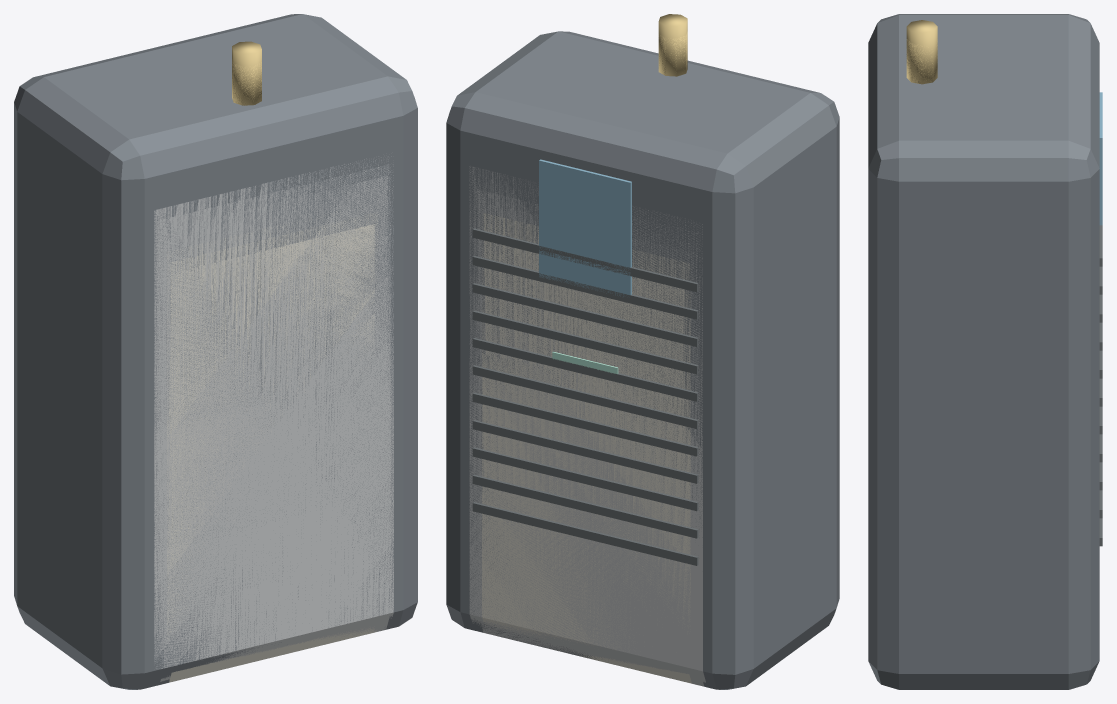
The model's file is Gear19.fbx.
3 renders of one model, left to right at view 1: azimuth 30°, elevation 25°; view 2: azimuth 150°, elevation 25°; view 3: azimuth 270°, elevation 25°, orthographic. The views are drawn at different scales.
Visible parts, largest first — view 1: Gear19_V10_Graphite, Gear19_V6_BrushedSteel, Gear19_V7_BrushedSteel, Gear19_V5_BrushedSteel, Gear19_V4_BrushedSteel, Gear19_V8_Graphite, Gear19_V1_Ivory, Gear19_V2_Ivory, Gear19_V9_Graphite, Gear19_V10_Brass, Gear19_V3_Ivory; view 2: Gear19_V10_Graphite, Gear19_V7_BrushedSteel, Gear19_V3_Ivory, Gear19_V10_Charcoal, Gear19_V1_Ivory, Gear19_V8_Graphite, Gear19_V1_Charcoal, Gear19_V9_Graphite, Gear19_V8_Charcoal, Gear19_V4_BrushedSteel, Gear19_V5_BrushedSteel, Gear19_V6_Charcoal (+19 smaller); view 3: Gear19_V10_Graphite, Gear19_V10_Brass, Gear19_V10_Charcoal, Gear19_V9_Brass.
Boxes of the visible parts, x1=… form: Gear19_V10_Graphite: x1=14, y1=14, x2=417, y2=689; Gear19_V6_BrushedSteel: x1=157, y1=164, x2=390, y2=662; Gear19_V7_BrushedSteel: x1=154, y1=156, x2=393, y2=668; Gear19_V5_BrushedSteel: x1=160, y1=176, x2=387, y2=668; Gear19_V4_BrushedSteel: x1=160, y1=188, x2=384, y2=681; Gear19_V8_Graphite: x1=147, y1=140, x2=396, y2=684; Gear19_V1_Ivory: x1=169, y1=224, x2=374, y2=682; Gear19_V2_Ivory: x1=170, y1=212, x2=377, y2=637; Gear19_V9_Graphite: x1=143, y1=128, x2=400, y2=688; Gear19_V10_Brass: x1=232, y1=41, x2=261, y2=105; Gear19_V3_Ivory: x1=167, y1=211, x2=376, y2=639; Gear19_V10_Graphite: x1=446, y1=31, x2=839, y2=689; Gear19_V7_BrushedSteel: x1=469, y1=166, x2=705, y2=682; Gear19_V3_Ivory: x1=482, y1=213, x2=690, y2=651; Gear19_V10_Charcoal: x1=472, y1=228, x2=698, y2=565; Gear19_V1_Ivory: x1=488, y1=243, x2=684, y2=660; Gear19_V8_Graphite: x1=466, y1=154, x2=706, y2=658; Gear19_V1_Charcoal: x1=493, y1=371, x2=677, y2=552; Gear19_V9_Graphite: x1=463, y1=142, x2=709, y2=672; Gear19_V8_Charcoal: x1=477, y1=258, x2=693, y2=564; Gear19_V4_BrushedSteel: x1=479, y1=201, x2=693, y2=656; Gear19_V5_BrushedSteel: x1=476, y1=189, x2=696, y2=609; Gear19_V6_Charcoal: x1=482, y1=290, x2=688, y2=563; Gear19_V10_Graphite: x1=868, y1=14, x2=1099, y2=689; Gear19_V10_Brass: x1=906, y1=20, x2=937, y2=84; Gear19_V10_Charcoal: x1=1099, y1=225, x2=1102, y2=546; Gear19_V9_Brass: x1=906, y1=39, x2=937, y2=83.
Bounding box in the file's own units: 46.55 × 85.75 × 30.4.
